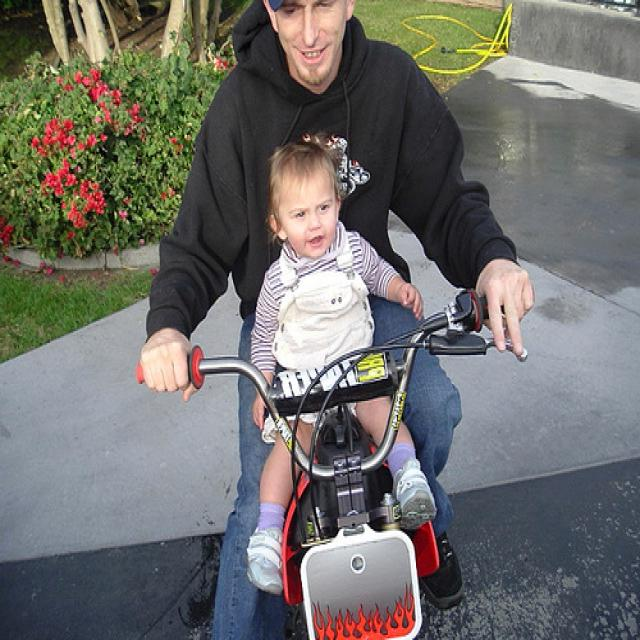adult: (108, 0, 542, 640)
child: (238, 140, 441, 596)
